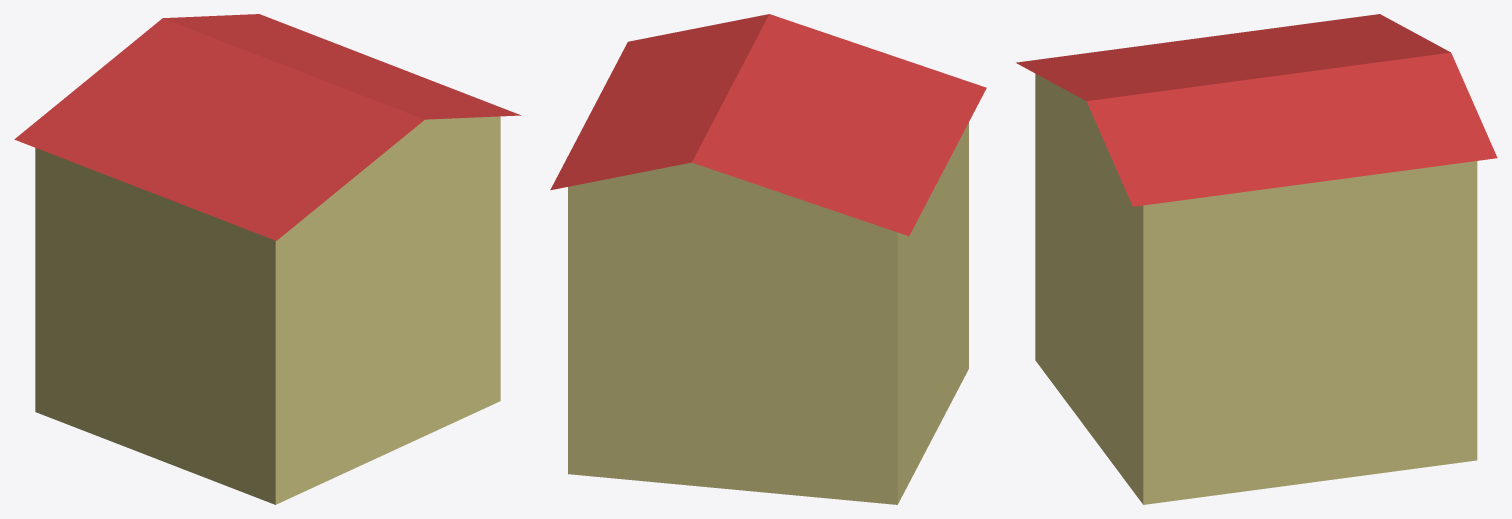
3 renders of one model, left to right at view 1: azimuth 30°, elevation 25°; view 2: azimuth 150°, elevation 25°; view 3: azimuth 270°, elevation 25°, orthographic. The views are drawn at different scales.
Bounding box in the file's own units: 7.6 × 7.51 × 6.02.
